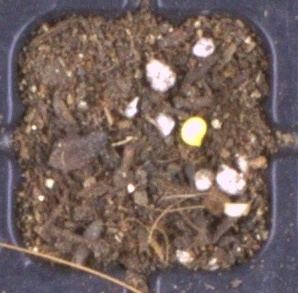chilli seed: (179, 116, 207, 148)
